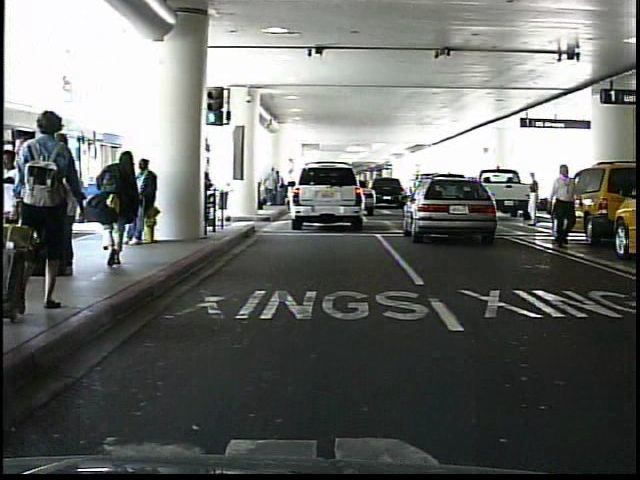person: (25, 109, 83, 324), (99, 140, 148, 272), (129, 156, 163, 248), (550, 162, 582, 253), (528, 171, 547, 228), (556, 169, 566, 210)
